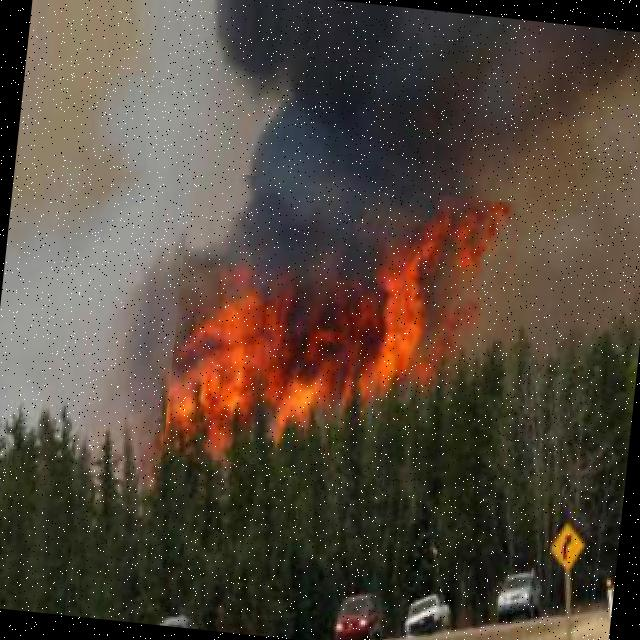fire: (162, 169, 522, 489)
